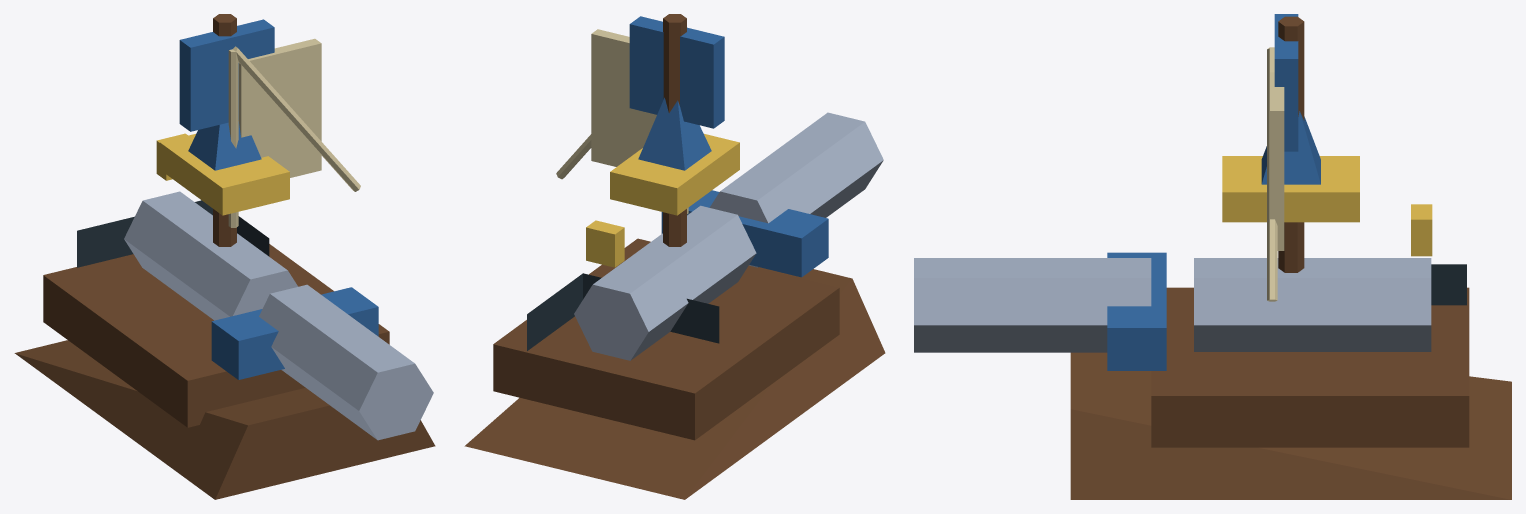
The model's file is heavy-warship.obj.
3 views of the same model, side by side, from view 1: azimuth 30°, elevation 25°; view 2: azimuth 150°, elevation 25°; view 3: azimuth 270°, elevation 25° (orthographic). The views are drawn at different scales.
Visible parts, largest first — view 1: ship; view 2: ship; view 3: ship.
Part boxes in pixels (<box>): ship: <box>14,14,435,499</box>; ship: <box>464,14,885,499</box>; ship: <box>914,14,1511,499</box>.
Size of the model in its own units: 1.27 by 1.95 by 2.52.
